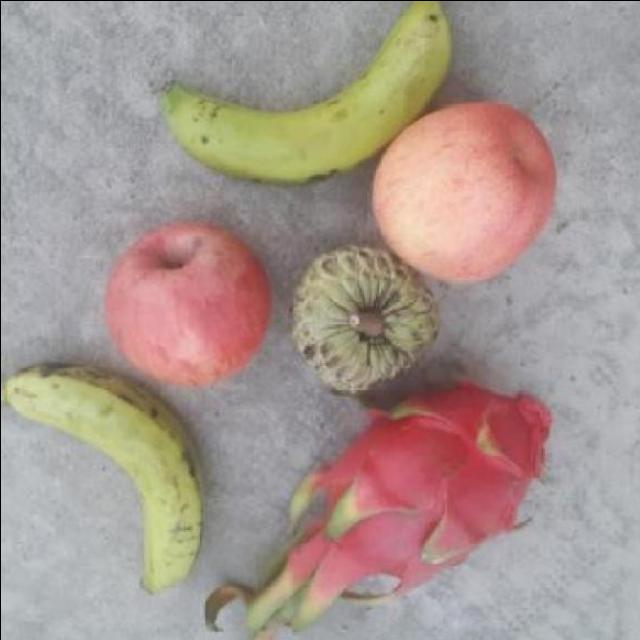apple: (370, 97, 564, 286), (94, 218, 274, 390)
banana: (160, 0, 456, 188), (0, 360, 209, 600)
dragon fruit: (306, 375, 556, 576)
sugar apple: (286, 238, 446, 396)
